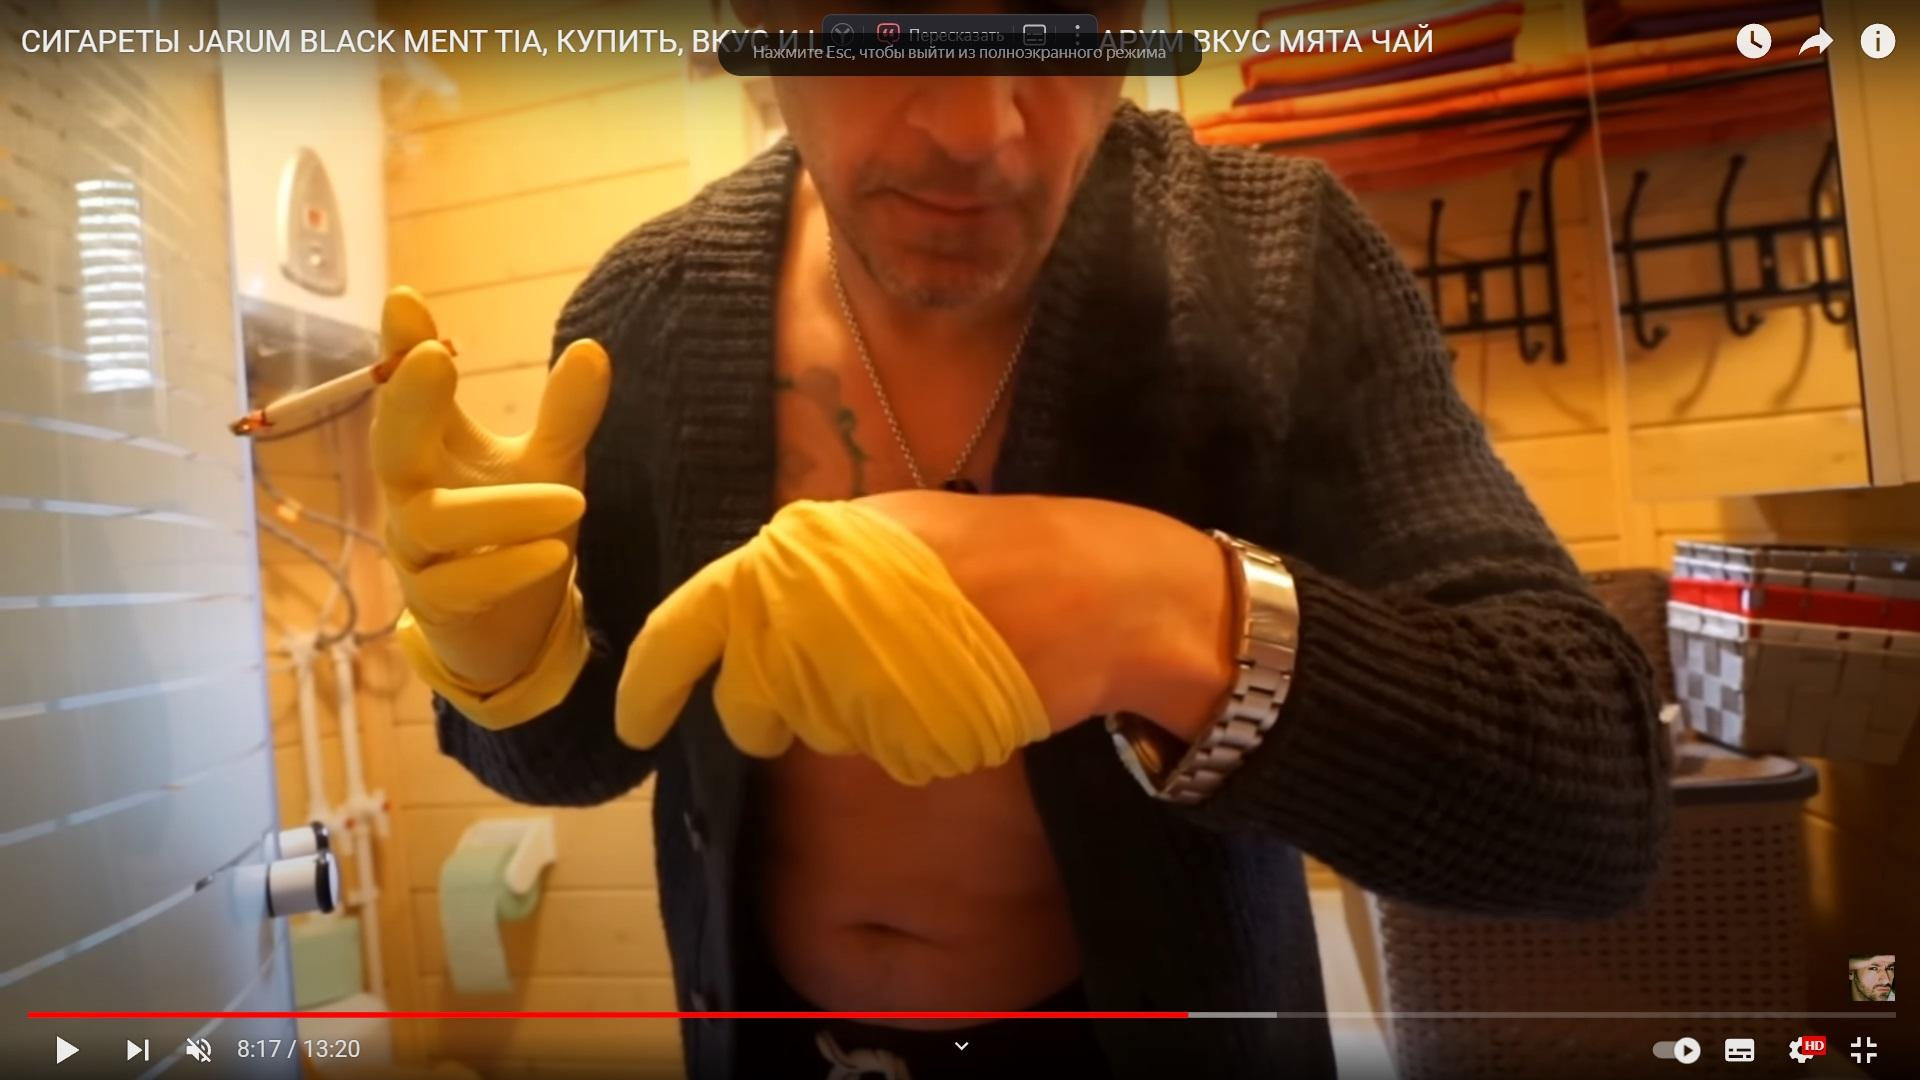cigarette: (228, 335, 458, 439)
